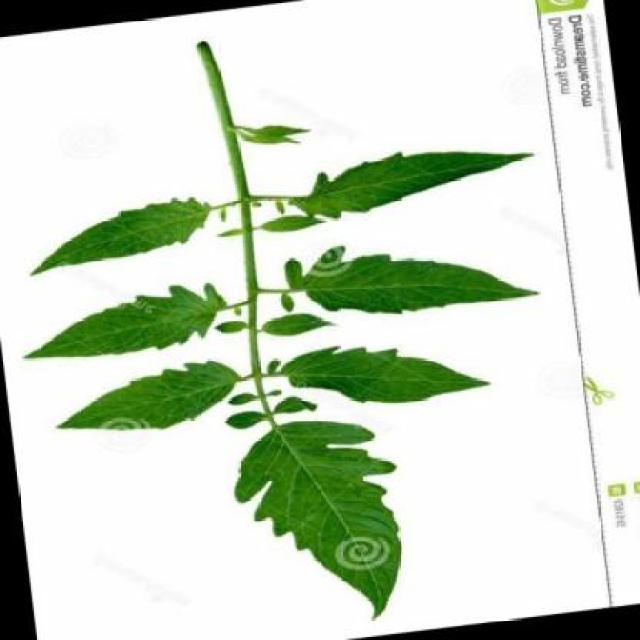Healthy Leaf: (219, 400, 423, 631), (295, 217, 551, 340), (274, 120, 546, 235), (257, 314, 512, 423), (4, 272, 264, 377), (14, 177, 251, 291), (44, 354, 244, 455)
